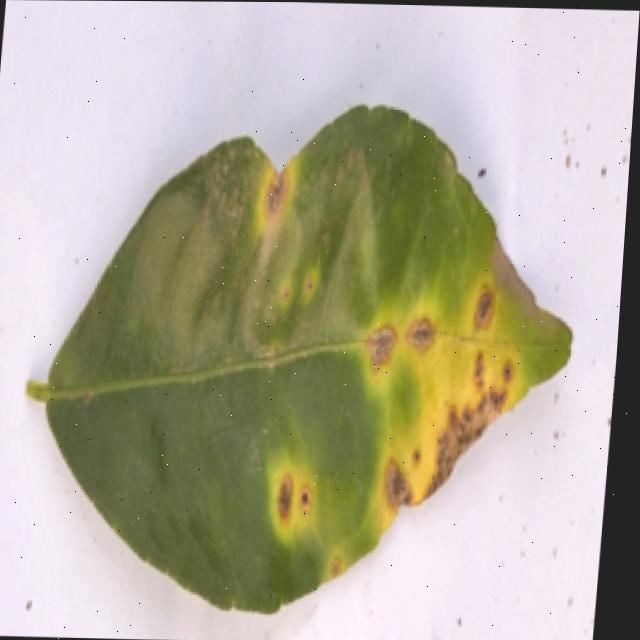canker: (29, 106, 568, 609), (239, 259, 551, 586), (228, 142, 320, 237)
